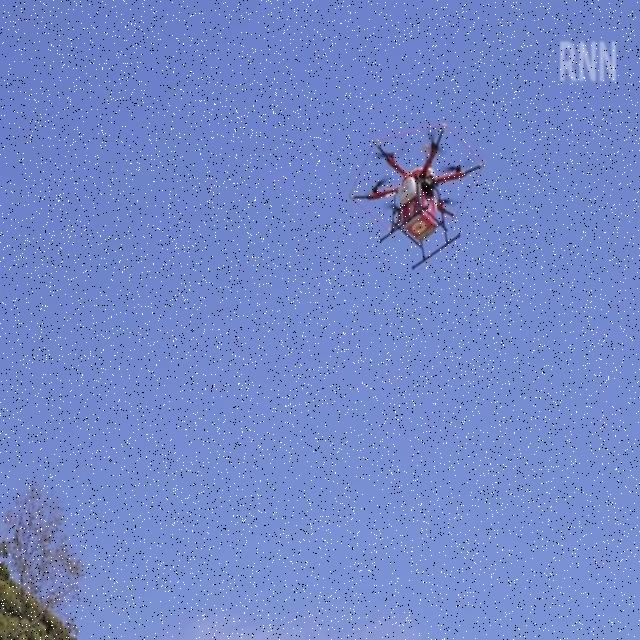UAV: (347, 123, 485, 270)
